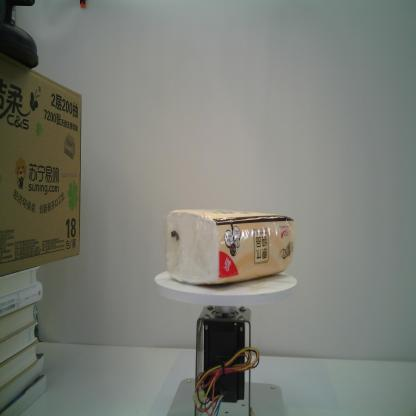Tissue: (163, 207, 296, 286)
